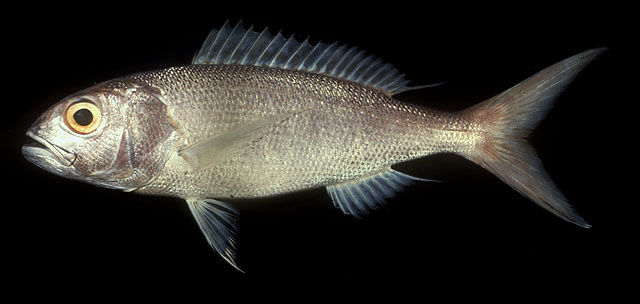fish: (21, 21, 605, 274)
